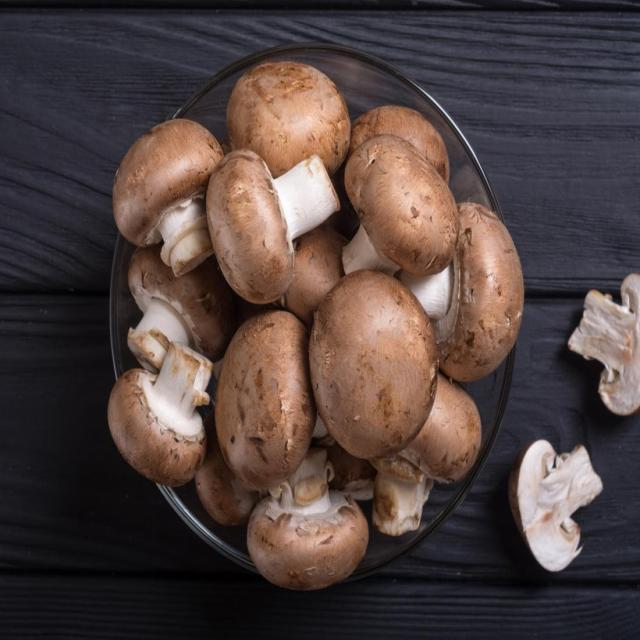Mushroom: (80, 62, 516, 571)
